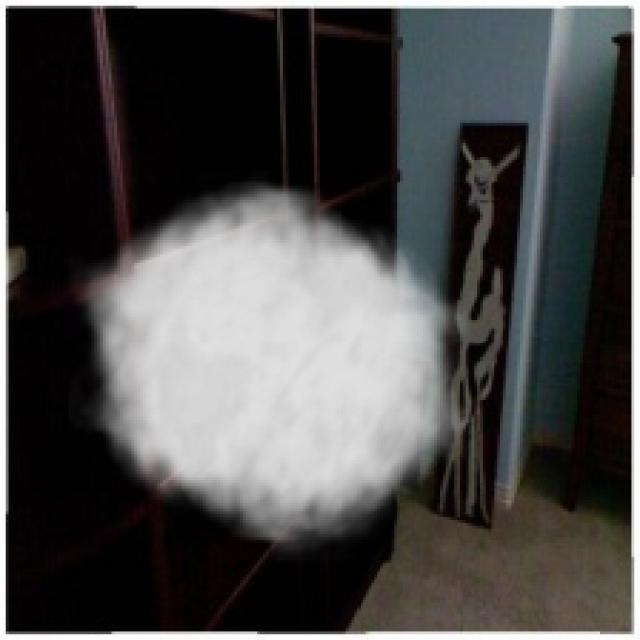smoke: (69, 171, 472, 563)
